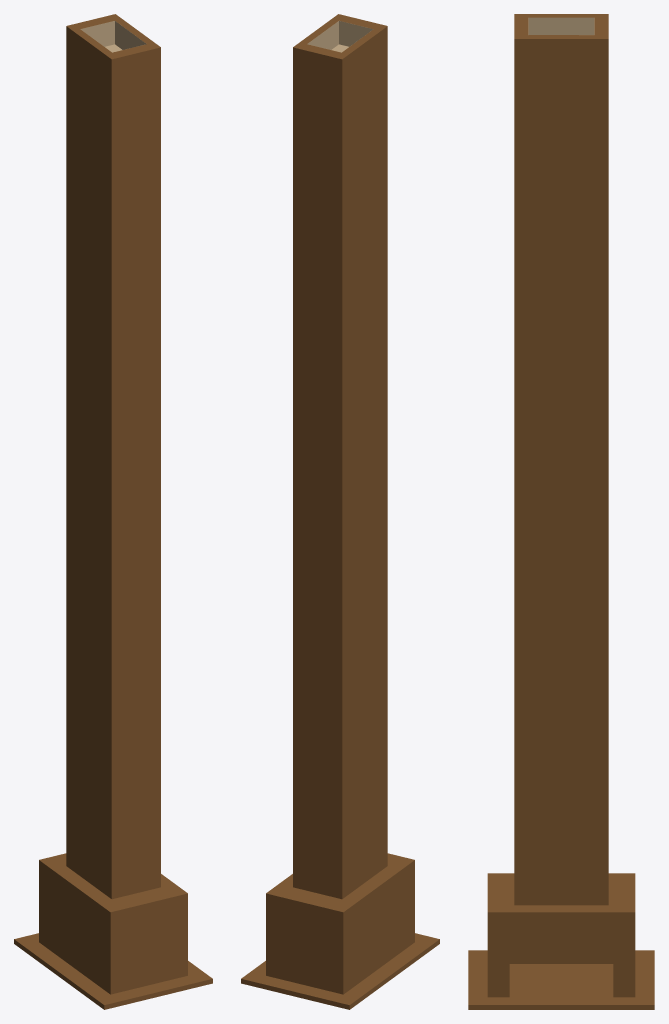
File: Fireplace.fbx
3 views of the same model, side by side, from view 1: azimuth 30°, elevation 25°; view 2: azimuth 150°, elevation 25°; view 3: azimuth 270°, elevation 25° (orthographic). The views are drawn at different scales.
Visible parts, largest first — view 1: Fireplace.001; view 2: Fireplace.001; view 3: Fireplace.001.
Boxes of the visible parts, box(x1,y1,x2,y2) form: Fireplace.001: box(14, 14, 212, 1009); Fireplace.001: box(241, 14, 439, 1009); Fireplace.001: box(468, 14, 654, 1009).
Bounding box in the file's own units: 400 × 3267 × 577.
